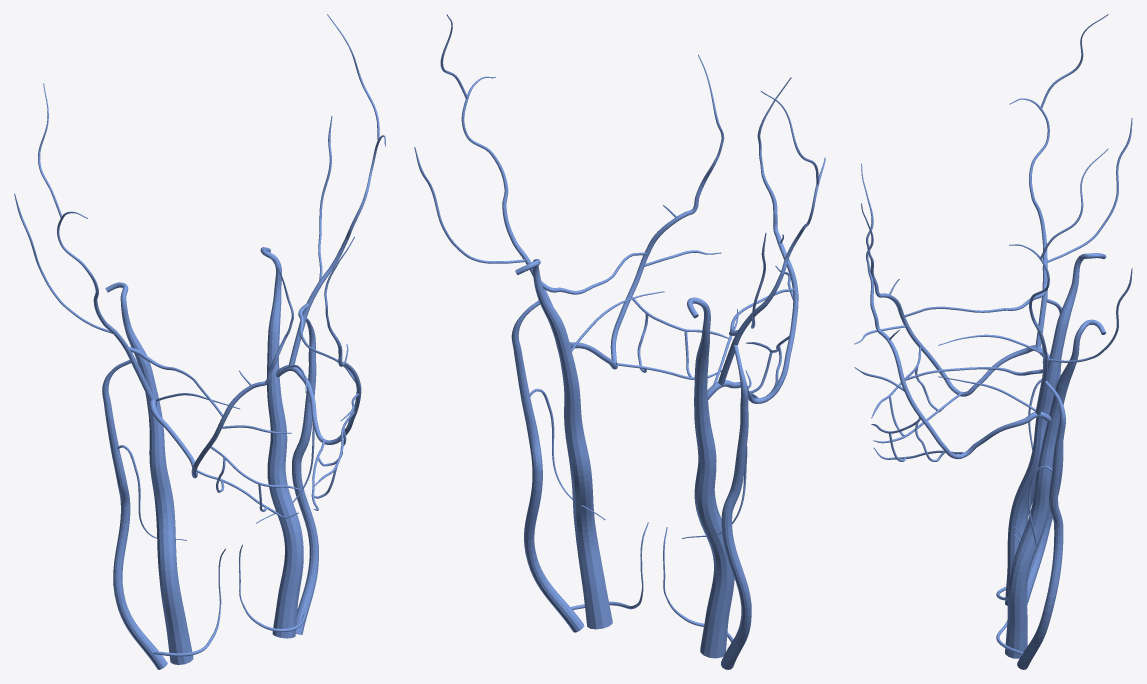
File: veias.glb
3 views of the same model, side by side, from view 1: azimuth 30°, elevation 25°; view 2: azimuth 150°, elevation 25°; view 3: azimuth 270°, elevation 25° (orthographic). The views are drawn at different scales.
Parts seen in each view (by area): view 1: FMA4762_E, FMA4754_D, external_jugular_vein_D, external_jugular_vein_E, superficial_temporal_veins_E, superficial_temporal_veins_D, facial_vein_D, facial_vein_E, angular_vein_D, angular_vein_E; view 2: FMA4762_E, FMA4754_D, external_jugular_vein_E, external_jugular_vein_D, superficial_temporal_veins_E, facial_vein_D, facial_vein_E, superficial_temporal_veins_D, angular_vein_E, angular_vein_D, inferior_labial_veins_E; view 3: FMA4762_E, FMA4754_D, external_jugular_vein_E, facial_vein_E, facial_vein_D, superficial_temporal_veins_D, superficial_temporal_veins_E, external_jugular_vein_D, angular_vein_E, angular_vein_D, posterior_auricular_vein_D, maxillary_veins_D (+4 smaller).
Part boxes in pixels (left/top/right/bottom): FMA4762_E: left=260, top=247, right=303, bottom=638; FMA4754_D: left=105, top=282, right=193, bottom=664; external_jugular_vein_D: left=102, top=386, right=167, bottom=669; external_jugular_vein_E: left=292, top=336, right=318, bottom=634; superficial_temporal_veins_E: left=318, top=14, right=385, bottom=285; superficial_temporal_veins_D: left=38, top=83, right=117, bottom=335; facial_vein_D: left=149, top=399, right=235, bottom=478; facial_vein_E: left=289, top=367, right=361, bottom=444; angular_vein_D: left=232, top=257, right=293, bottom=402; angular_vein_E: left=324, top=236, right=355, bottom=373; FMA4762_E: left=515, top=259, right=612, bottom=629; FMA4754_D: left=687, top=297, right=734, bottom=658; external_jugular_vein_E: left=511, top=332, right=584, bottom=632; external_jugular_vein_D: left=721, top=388, right=751, bottom=669; superficial_temporal_veins_E: left=440, top=14, right=529, bottom=261; facial_vein_D: left=722, top=266, right=798, bottom=403; facial_vein_E: left=569, top=234, right=659, bottom=369; superficial_temporal_veins_D: left=750, top=91, right=825, bottom=316; angular_vein_E: left=656, top=54, right=724, bottom=236; angular_vein_D: left=757, top=77, right=791, bottom=267; inferior_labial_veins_E: left=631, top=296, right=731, bottom=377; FMA4762_E: left=1005, top=319, right=1105, bottom=658; FMA4754_D: left=1005, top=253, right=1106, bottom=605; external_jugular_vein_E: left=1017, top=417, right=1065, bottom=669; facial_vein_E: left=895, top=360, right=1039, bottom=459; facial_vein_D: left=896, top=303, right=1036, bottom=396; superficial_temporal_veins_D: left=1009, top=14, right=1108, bottom=262; superficial_temporal_veins_E: left=1009, top=148, right=1108, bottom=360; external_jugular_vein_D: left=1027, top=358, right=1063, bottom=602; angular_vein_E: left=861, top=203, right=899, bottom=360; angular_vein_D: left=861, top=163, right=899, bottom=306; posterior_auricular_vein_D: left=1047, top=118, right=1132, bottom=262; maxillary_veins_D: left=904, top=284, right=1046, bottom=317.
Bounding box in the file's own units: 0.1578 × 0.2632 × 0.1196.
